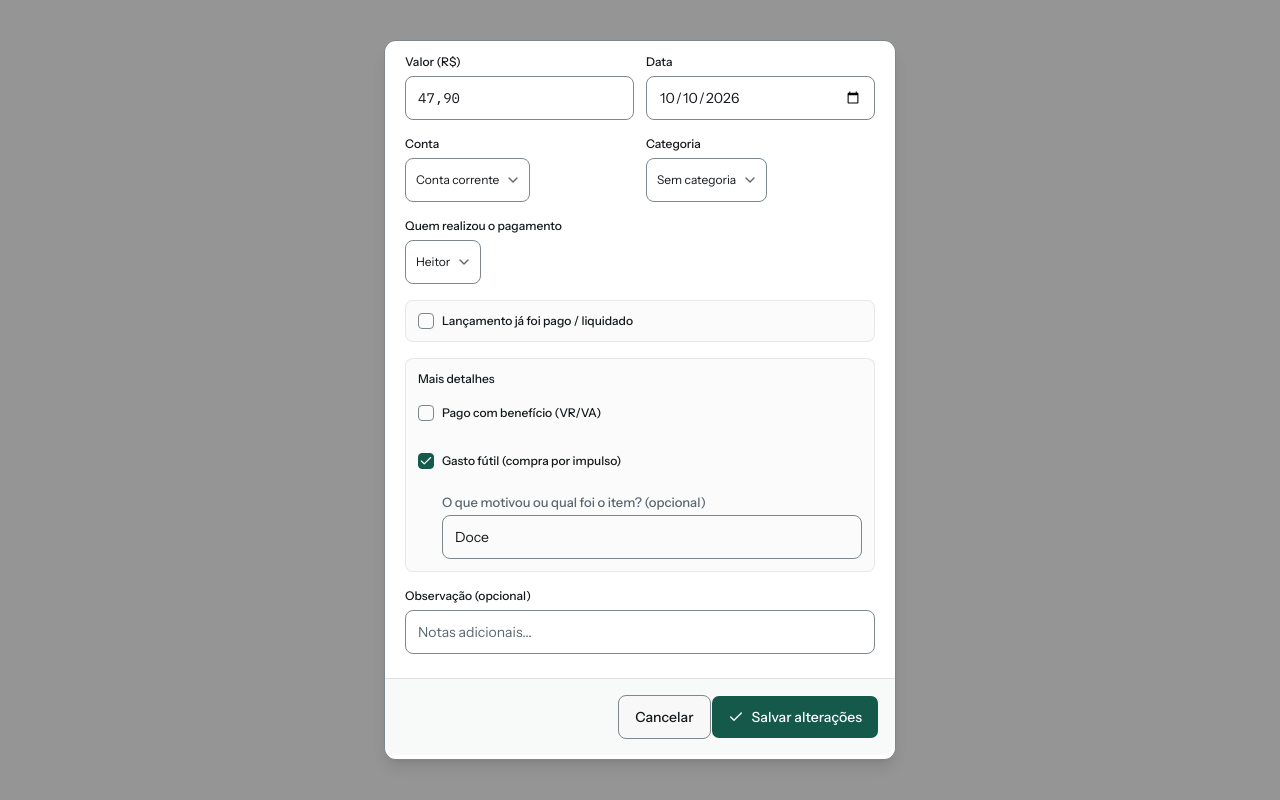
Test: DialogoEditarLancamento — benefício e gasto fútil › aviso geral fica enquanto sobrar outro erro de campo
(page scrolled)
Click the button "Salvar alterações" at x=795, y=717, box [711,695,879,739]
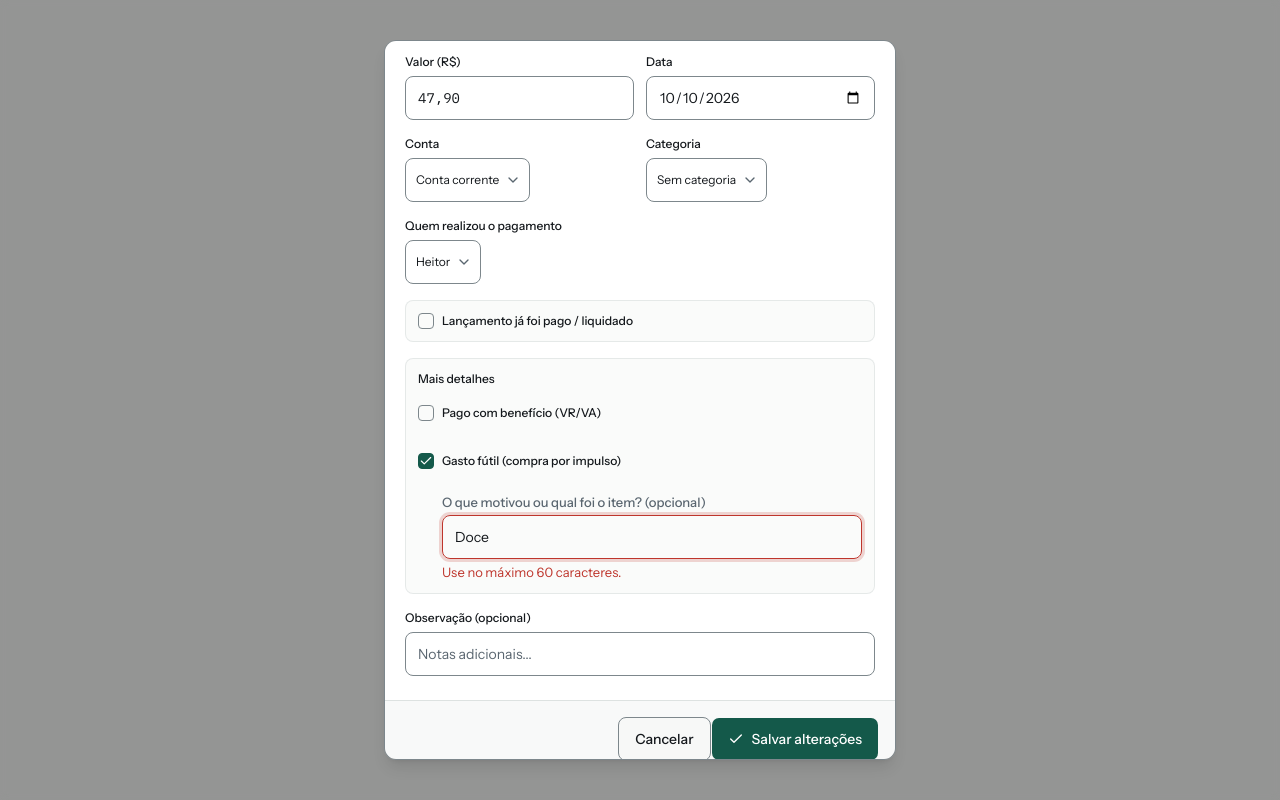
Check: the text "Use no máximo 60 caracteres." is shown, box [442,564,621,580]
Replace the text in the field labelled "O que motivou ou qual foi o item? (opcional)" with "Doces" at x=652, y=537, box [442,515,862,559]
(page scrolled)
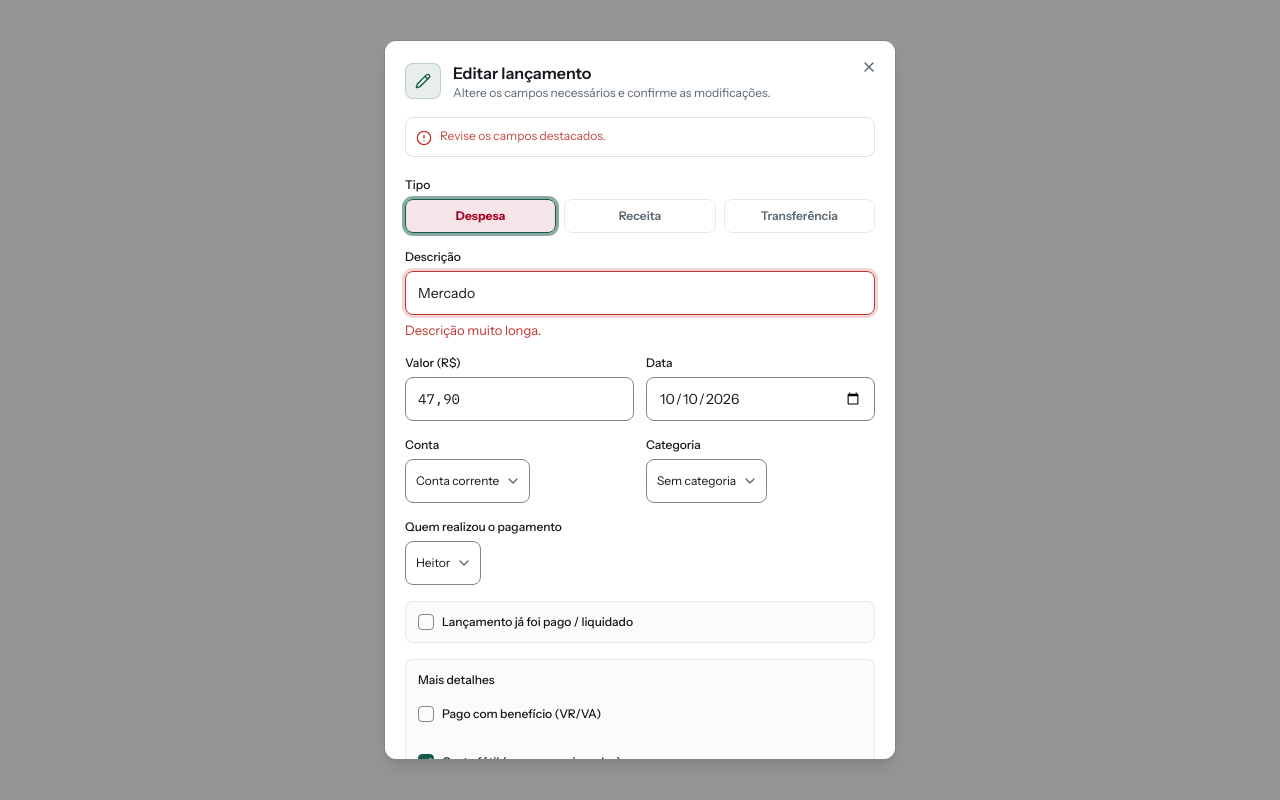
Check: the text "Use no máximo 60 caracteres." is gone
Check: the text "Revise os campos destacados." is shown, box [440,128,606,143]
